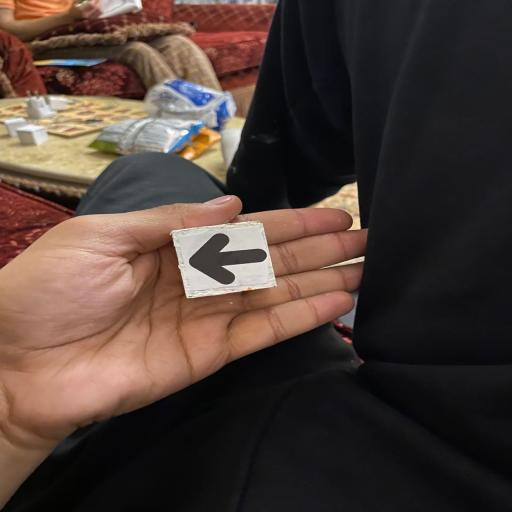Back: (168, 218, 280, 300)
